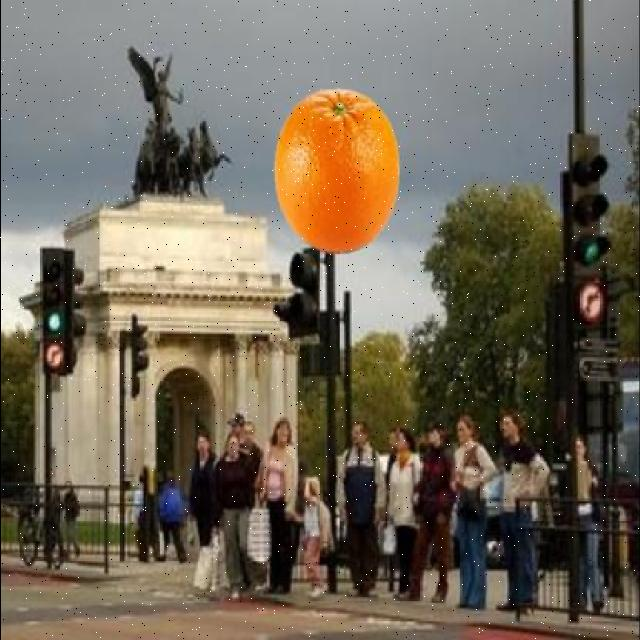Orange: (274, 86, 402, 254)
